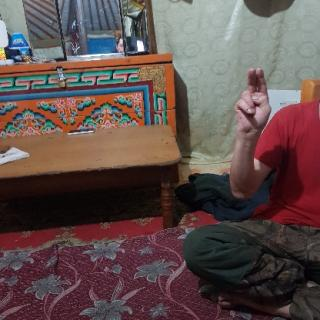TA: (235, 66, 272, 142)
